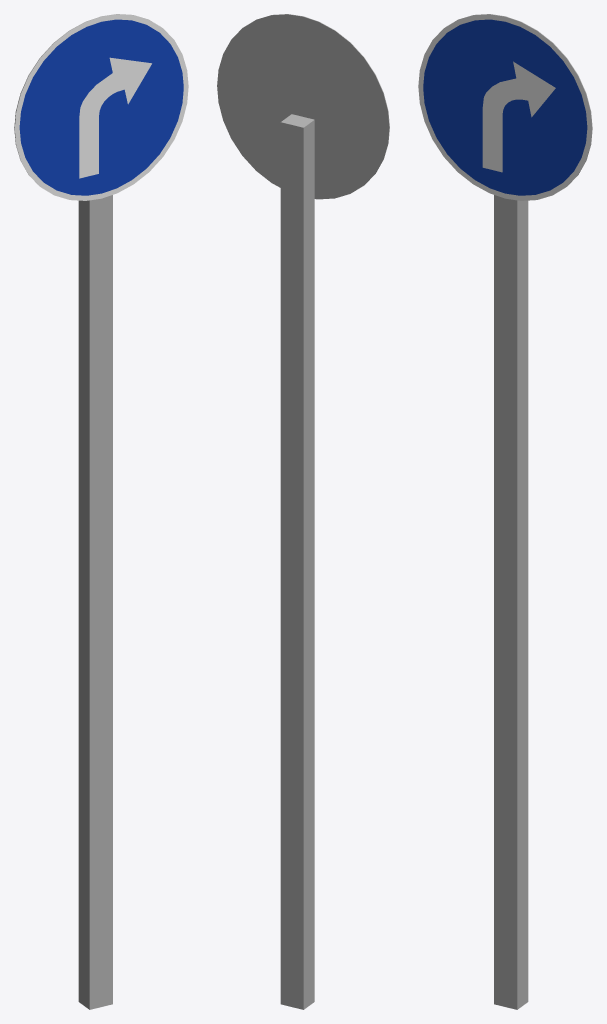
File: yesright.DAE
The picture shows the model from 3 angles, left to right: view 1: azimuth 30°, elevation 25°; view 2: azimuth 150°, elevation 25°; view 3: azimuth 330°, elevation 25°; orthographic projection.
Visible parts, largest first — view 1: saFBXASC196FBXASC159aFBXASC032dFBXASC195FBXASC182nFBXASC195F; view 2: saFBXASC196FBXASC159aFBXASC032dFBXASC195FBXASC182nFBXASC195F; view 3: saFBXASC196FBXASC159aFBXASC032dFBXASC195FBXASC182nFBXASC195F.
Part boxes in pixels (x1,y1,x2,y2): saFBXASC196FBXASC159aFBXASC032dFBXASC195FBXASC182nFBXASC195F: (14, 14, 188, 1009); saFBXASC196FBXASC159aFBXASC032dFBXASC195FBXASC182nFBXASC195F: (217, 14, 389, 1009); saFBXASC196FBXASC159aFBXASC032dFBXASC195FBXASC182nFBXASC195F: (418, 14, 592, 1009).
Size of the model in its own units: 17.72 by 96.46 by 2.05.
